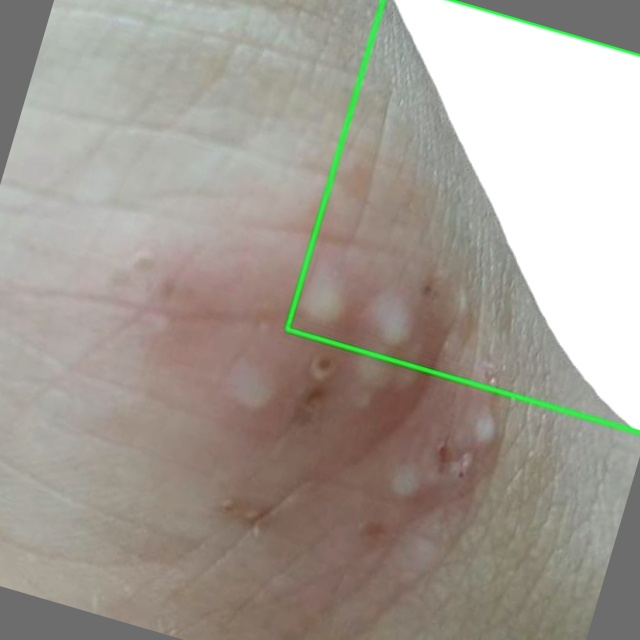Scabies: (287, 0, 639, 432)
